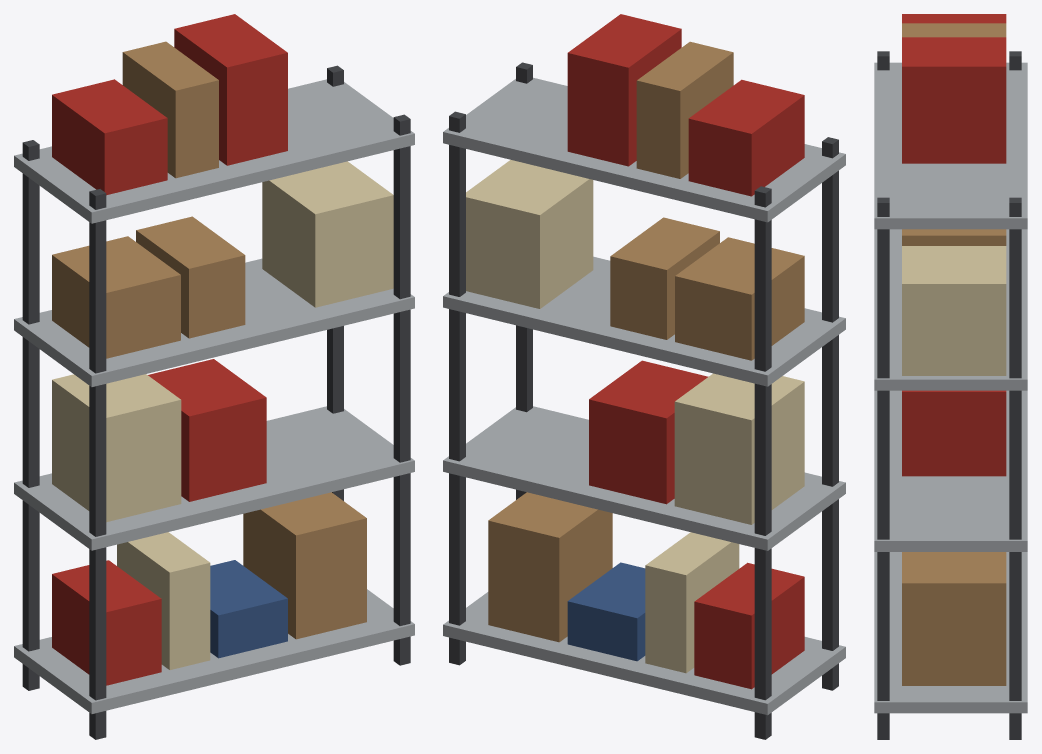
File: SM_Prop_Shelf_Preset_01.glb
3 renders of one model, left to right at view 1: azimuth 30°, elevation 25°; view 2: azimuth 150°, elevation 25°; view 3: azimuth 270°, elevation 25°, orthographic.
Parts seen in each view (by area): view 1: SM_Prop_Shelf_Preset_01; view 2: SM_Prop_Shelf_Preset_01; view 3: SM_Prop_Shelf_Preset_01.
Boxes of the visible parts, box(x1,y1,x2,y2) form: SM_Prop_Shelf_Preset_01: box(14, 14, 414, 739); SM_Prop_Shelf_Preset_01: box(443, 14, 845, 739); SM_Prop_Shelf_Preset_01: box(874, 14, 1027, 739).
Bounding box in the file's own units: 1.2 × 2.23 × 0.5.
Materials: 1 (1 with a texture image).
